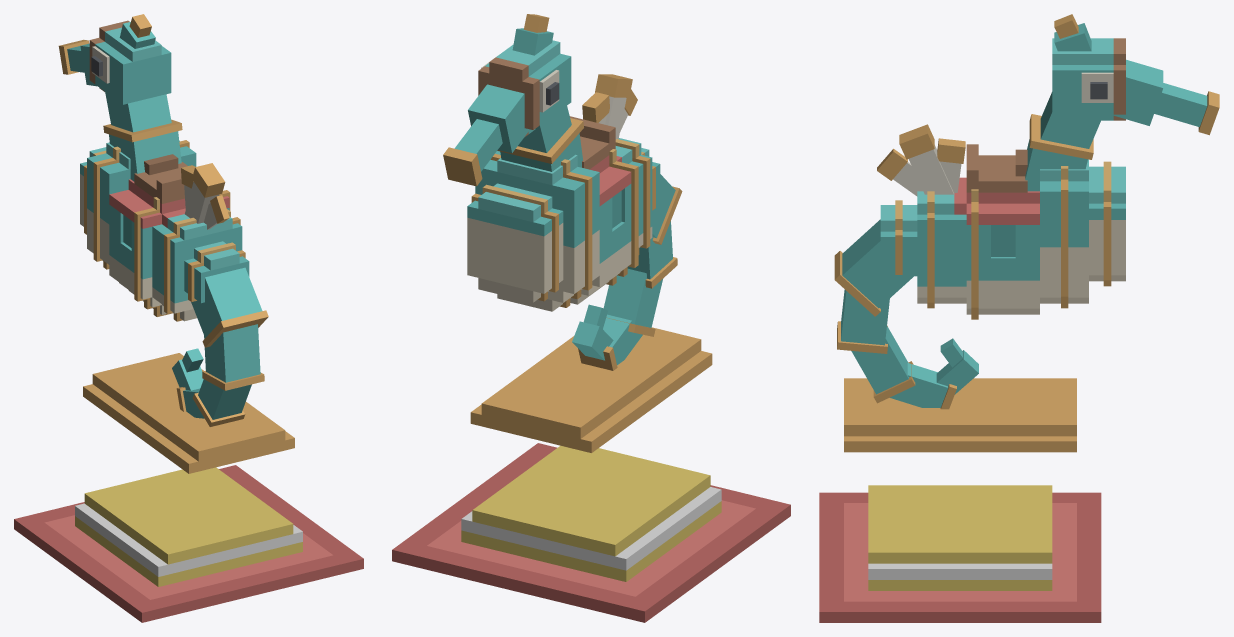
File: SeahorseTrainer3.glb
3 renders of one model, left to right at view 1: azimuth 30°, elevation 25°; view 2: azimuth 150°, elevation 25°; view 3: azimuth 270°, elevation 25°, orthographic. The views are drawn at different scales.
Parts seen in each view (by area): view 1: Stand, Body, Plate, Head, T1, T2, Fin, T3, T5, T4; view 2: Stand, Body, Plate, Head, T3, Fin, T4, T2, T1, T5; view 3: Stand, Body, Plate, Head, Fin, T1, T2, T3, T4, T5.
Part boxes in pixels (bbox=[...]): Stand: bbox=[14, 465, 363, 622]; Body: bbox=[80, 92, 249, 321]; Plate: bbox=[83, 353, 294, 473]; Head: bbox=[58, 14, 171, 104]; T1: bbox=[191, 267, 268, 347]; T2: bbox=[202, 324, 264, 390]; Fin: bbox=[181, 163, 229, 229]; T3: bbox=[192, 379, 251, 426]; T5: bbox=[172, 359, 203, 390]; T4: bbox=[176, 387, 204, 418]; Stand: bbox=[392, 443, 790, 622]; Body: bbox=[467, 106, 660, 311]; Plate: bbox=[470, 327, 712, 452]; Head: bbox=[443, 14, 571, 186]; T3: bbox=[603, 268, 662, 336]; Fin: bbox=[582, 74, 637, 139]; T4: bbox=[578, 314, 642, 370]; T2: bbox=[627, 221, 677, 288]; T1: bbox=[652, 174, 682, 244]; T5: bbox=[572, 321, 613, 360]; Stand: bbox=[819, 485, 1101, 622]; Body: bbox=[880, 92, 1125, 319]; Plate: bbox=[844, 378, 1076, 452]; Head: bbox=[1052, 14, 1219, 135]; Fin: bbox=[877, 124, 965, 196]; T1: bbox=[834, 219, 917, 316]; T2: bbox=[837, 289, 889, 353]; T3: bbox=[851, 326, 915, 403]; T4: bbox=[890, 363, 956, 409]; T5: bbox=[936, 350, 978, 394].
Bounding box in the file's own units: 9.2 × 19.67 × 13.06.
